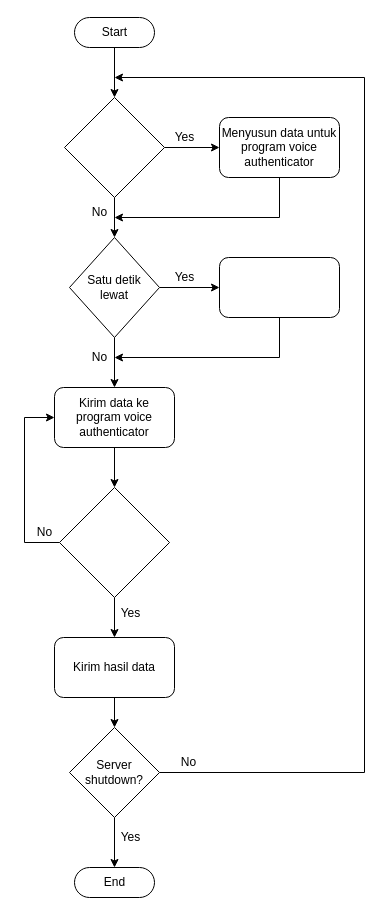
This 390x915 diagram has some shape labels left out. Each missing label, with the centre of its shape:
Ada data masuk?: the point at 114,147
Output program diterima: the point at 114,542
update server time: the point at 279,287
